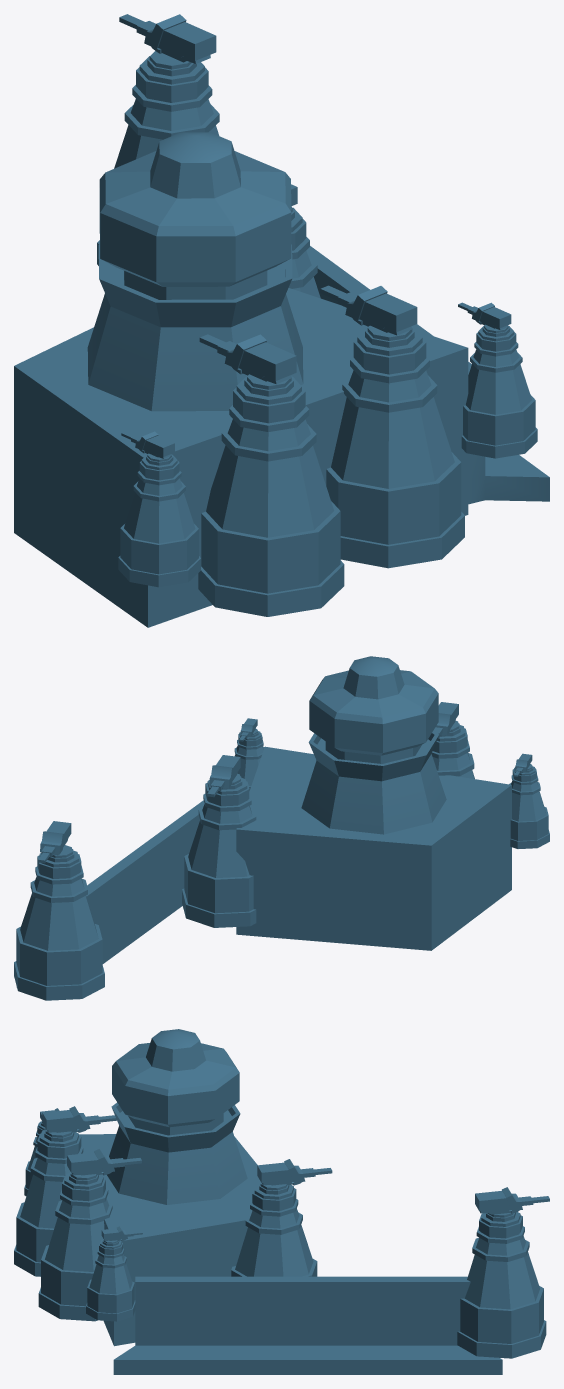
Rendered from citadel.fbx.
3 renders of one model, top to bottom at view 1: azimuth 30°, elevation 25°; view 2: azimuth 150°, elevation 25°; view 3: azimuth 270°, elevation 25°, orthographic. The views are drawn at different scales.
Visible parts, largest first — view 1: pCylinder8, pCube1, turret4, turret3, turret, turret2, turret6, wall, turret_gun6, turret_gun3, turret_gun4, turret5 (+2 smaller); view 2: pCube1, pCylinder8, turret6, wall, turret5, turret, turret4, turret2, turret_gun5, turret_gun6, turret_gun4; view 3: wall, pCylinder8, pCube1, turret6, turret3, turret5, turret4, turret2, turret_gun6, turret_gun5, turret_gun4, turret_gun3.
Boxes of the visible parts, box(x1,y1,x2,y2) form: pCylinder8: box(87, 132, 303, 411); pCube1: box(14, 288, 468, 627); turret4: box(198, 374, 344, 616); turret3: box(326, 325, 464, 568); turret: box(118, 453, 200, 587); turret2: box(461, 324, 537, 458); turret6: box(97, 51, 219, 265); wall: box(306, 246, 549, 504); turret_gun6: box(119, 14, 216, 63); turret_gun3: box(320, 285, 417, 335); turret_gun4: box(199, 334, 296, 384); turret5: box(288, 207, 320, 298); pCube1: box(236, 746, 511, 950); pCylinder8: box(301, 656, 446, 834); turret6: box(14, 845, 104, 1000); wall: box(16, 800, 204, 987); turret5: box(182, 773, 256, 927); turret: box(509, 764, 549, 848); turret4: box(431, 721, 474, 778); turret2: box(234, 729, 264, 790); turret_gun5: box(207, 755, 240, 797); turret_gun6: box(38, 821, 71, 863); turret_gun4: box(433, 702, 458, 737); wall: box(113, 1276, 502, 1374); pCylinder8: box(107, 1029, 247, 1204); pCube1: box(79, 1134, 260, 1346); turret6: box(457, 1212, 546, 1358); turret3: box(38, 1172, 112, 1321); turret5: box(231, 1182, 317, 1276); turret4: box(14, 1130, 83, 1276); turret2: box(86, 1239, 135, 1321); turret_gun6: box(475, 1187, 549, 1214); turret_gun5: box(257, 1159, 332, 1185); turret_gun4: box(42, 1106, 116, 1132); turret_gun3: box(67, 1149, 141, 1175).
Size of the model in its own units: 1825 by 1475 by 2857.
